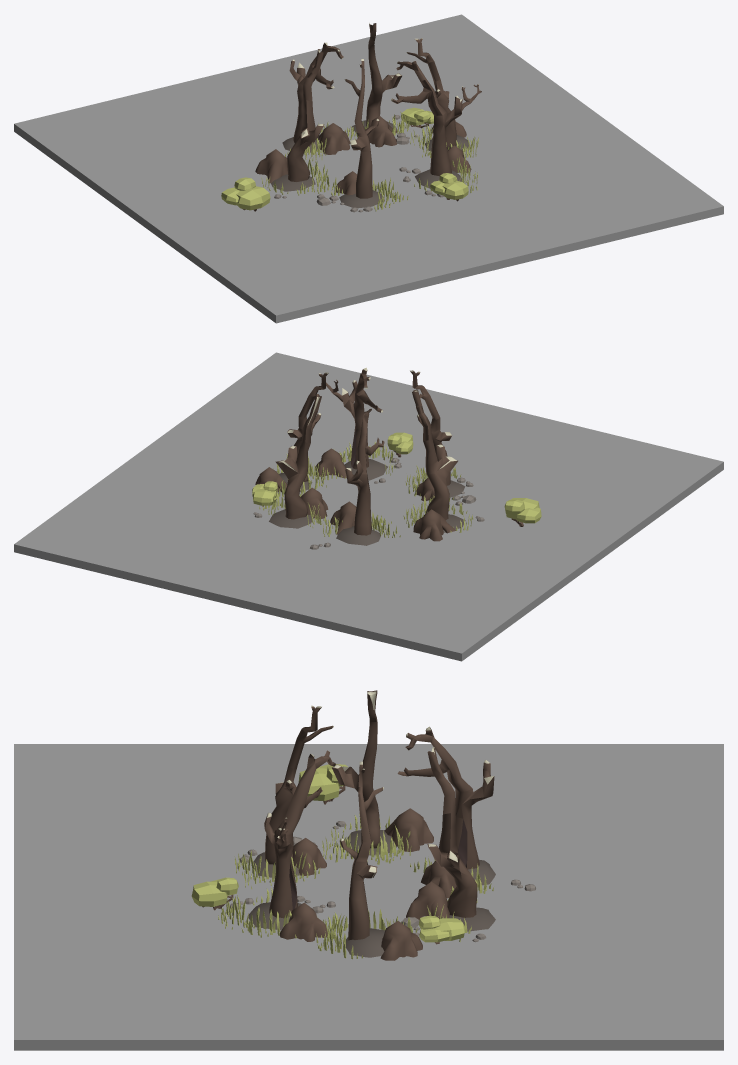
Rendered from tree_ring_03.fbx.
The picture shows the model from 3 angles, top to bottom: view 1: azimuth 30°, elevation 25°; view 2: azimuth 150°, elevation 25°; view 3: azimuth 270°, elevation 25°; orthographic projection. The views are drawn at different scales.
Visible parts, largest first — view 1: ring_of_trees2:sampledude, ring_of_trees2:tree6, ring_of_trees2:tree2, ring_of_trees2:tree4, ring_of_trees2:tree3, ring_of_trees2:bush_(3), ring_of_trees2:tree5, ring_of_trees2:tree1, ring_of_trees2:roots_(5), ring_of_trees2:bush_(2), ring_of_trees2:roots_(4), ring_of_trees2:roots_(6) (+1 smaller); view 2: ring_of_trees2:sampledude, ring_of_trees2:tree3, ring_of_trees2:tree2, ring_of_trees2:tree5, ring_of_trees2:tree6, ring_of_trees2:tree4, ring_of_trees2:bush_(3), ring_of_trees2:roots_(4), ring_of_trees2:tree1, ring_of_trees2:roots_(2), ring_of_trees2:bush_(1), ring_of_trees2:roots_(6) (+3 smaller); view 3: ring_of_trees2:sampledude, ring_of_trees2:tree6, ring_of_trees2:tree5, ring_of_trees2:tree3, ring_of_trees2:tree1, ring_of_trees2:tree2, ring_of_trees2:tree4, ring_of_trees2:roots_(4), ring_of_trees2:roots_(2), ring_of_trees2:roots_(1), ring_of_trees2:bush_(2), ring_of_trees2:roots_(6) (+5 smaller).
Part boxes in pixels (x1,y1,x2,y2): ring_of_trees2:sampledude: (14, 14, 723, 323); ring_of_trees2:tree6: (391, 61, 481, 176); ring_of_trees2:tree2: (287, 49, 324, 181); ring_of_trees2:tree4: (344, 59, 379, 198); ring_of_trees2:tree3: (366, 23, 401, 127); ring_of_trees2:bush_(3): (221, 177, 270, 211); ring_of_trees2:tree5: (289, 42, 343, 146); ring_of_trees2:tree1: (406, 38, 456, 149); ring_of_trees2:roots_(5): (318, 123, 350, 154); ring_of_trees2:bush_(2): (430, 173, 468, 201); ring_of_trees2:roots_(4): (255, 149, 287, 183); ring_of_trees2:roots_(6): (365, 116, 396, 147); ring_of_trees2:sampledude: (14, 352, 723, 661); ring_of_trees2:tree3: (275, 394, 321, 519); ring_of_trees2:tree2: (412, 389, 457, 520); ring_of_trees2:tree5: (345, 408, 384, 535); ring_of_trees2:tree6: (321, 367, 383, 469); ring_of_trees2:tree4: (410, 370, 452, 485); ring_of_trees2:bush_(3): (504, 498, 541, 526); ring_of_trees2:roots_(4): (413, 509, 455, 541); ring_of_trees2:tree1: (287, 372, 328, 481); ring_of_trees2:roots_(2): (315, 448, 346, 478); ring_of_trees2:bush_(1): (252, 481, 277, 506); ring_of_trees2:roots_(6): (300, 487, 328, 518); ring_of_trees2:sampledude: (14, 744, 723, 1050); ring_of_trees2:tree6: (264, 750, 335, 918); ring_of_trees2:tree5: (397, 726, 494, 869); ring_of_trees2:tree3: (427, 747, 477, 917); ring_of_trees2:tree1: (340, 761, 383, 940); ring_of_trees2:tree2: (332, 690, 380, 848); ring_of_trees2:tree4: (265, 705, 333, 864); ring_of_trees2:roots_(4): (384, 808, 433, 851); ring_of_trees2:roots_(2): (279, 902, 328, 941); ring_of_trees2:roots_(1): (380, 921, 422, 960); ring_of_trees2:bush_(2): (191, 877, 238, 910); ring_of_trees2:roots_(6): (406, 881, 449, 919).
Bounding box in the file's own units: 8892 × 2534 × 9015.
